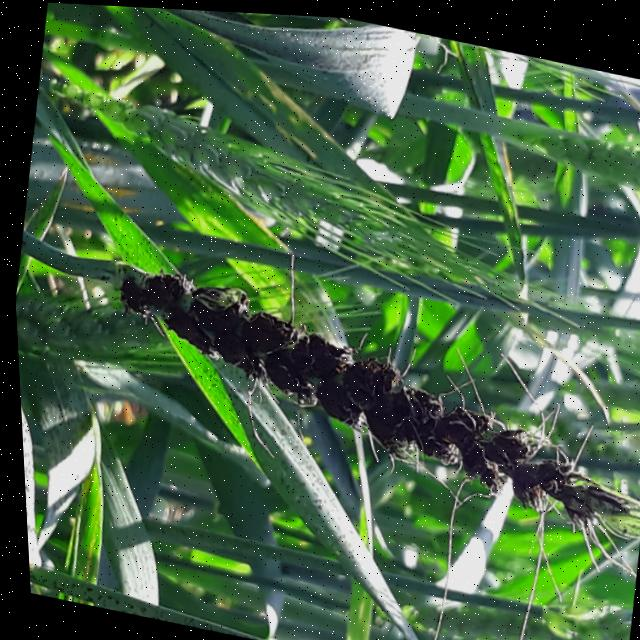loose_charred: (7, 179, 640, 603), (22, 538, 442, 640)
